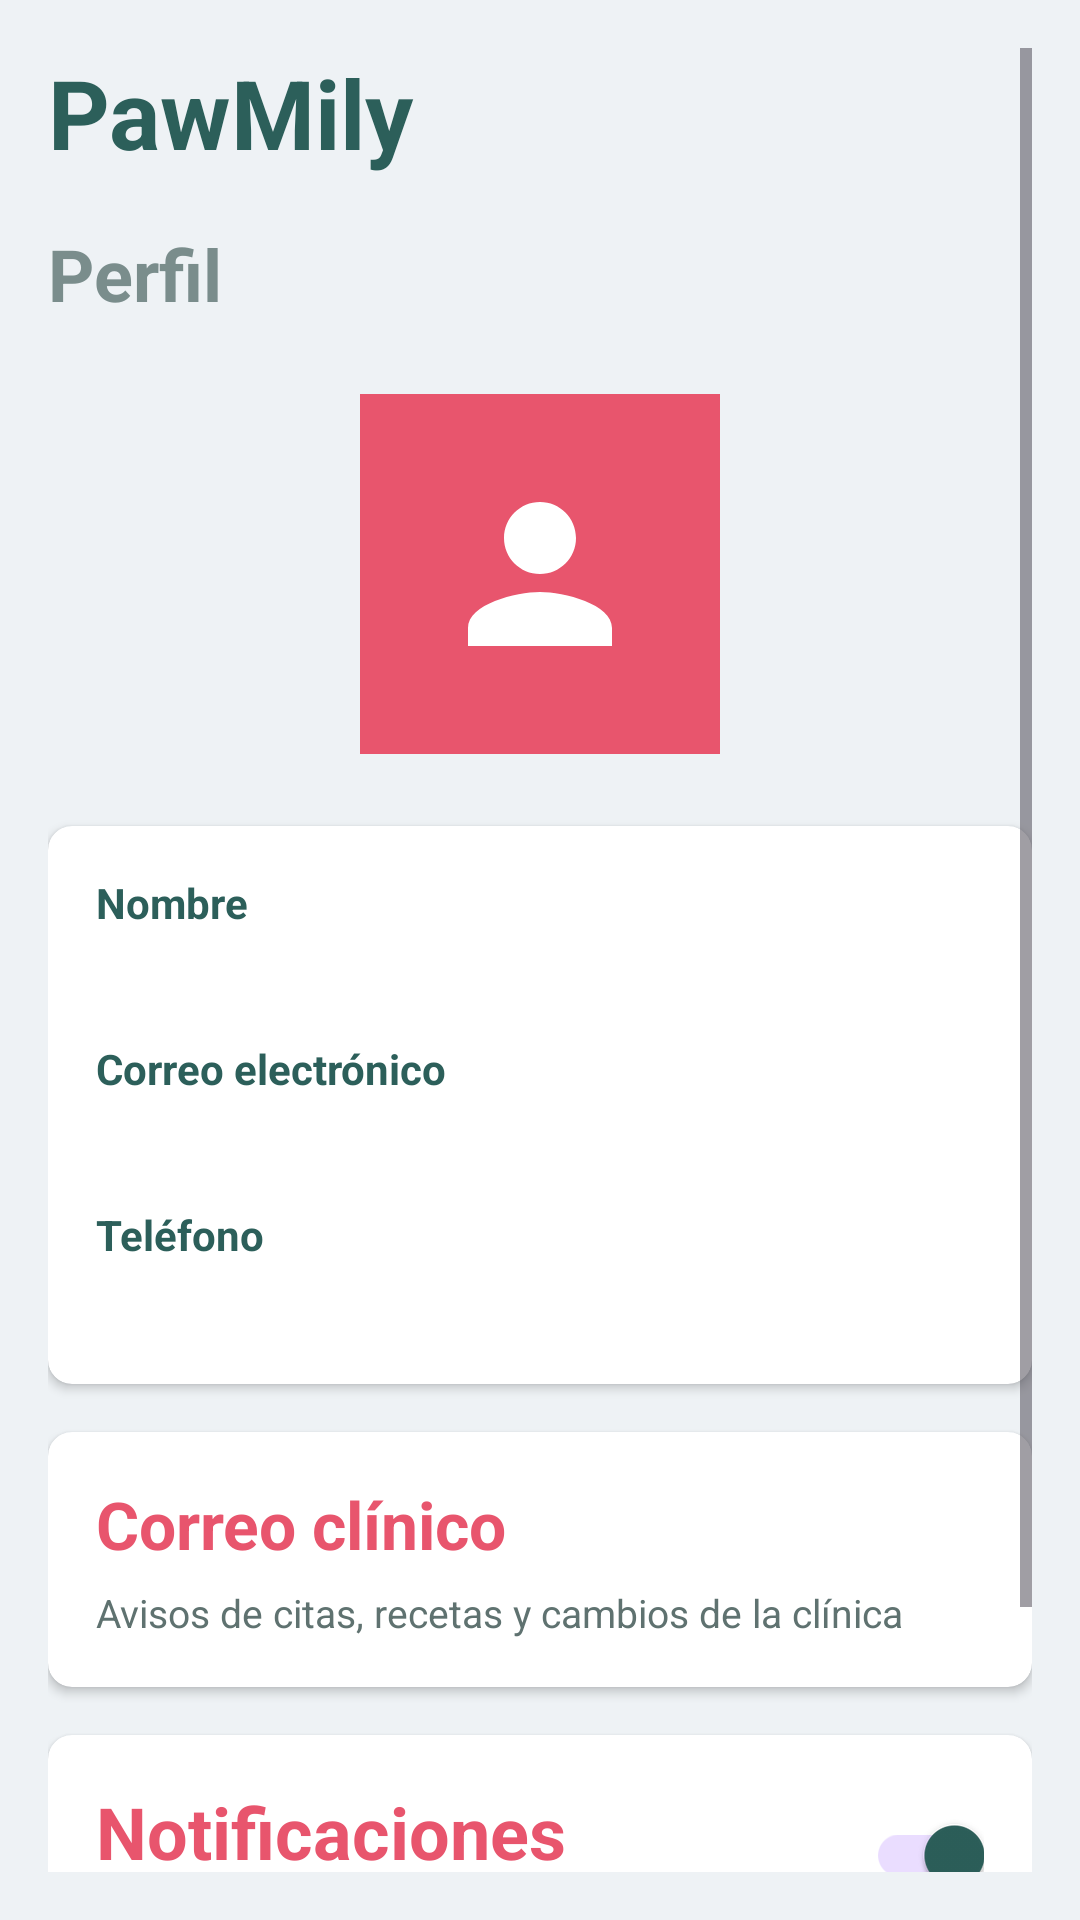

Where to tap for icons on this 1080w x 1920h app screen, as (x=x, y=y):
profile: (x=540, y=574)
